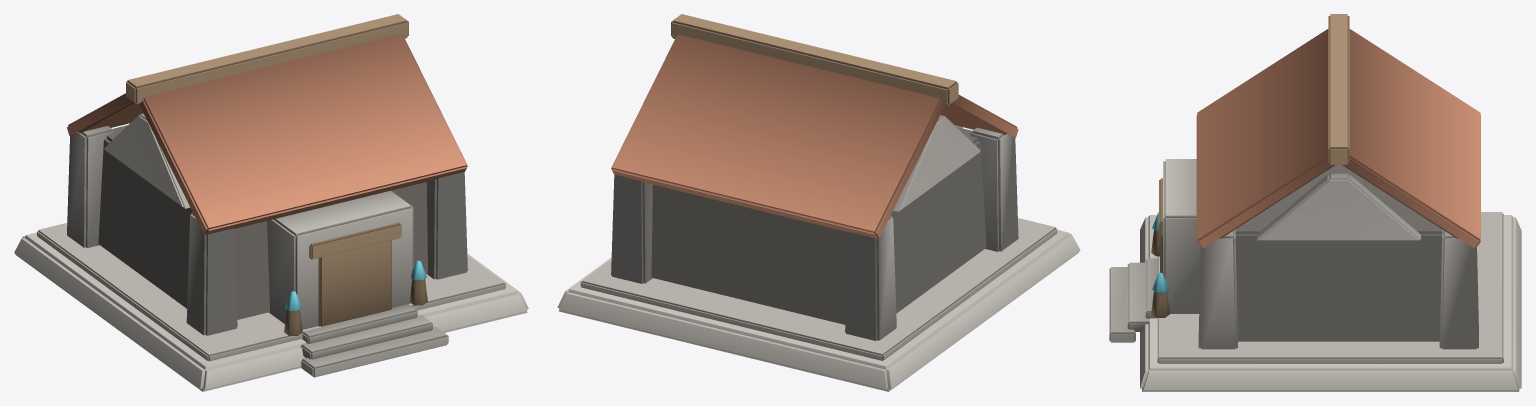
The model's file is core_archive_townhall_lv0_lod0.glb.
3 renders of one model, left to right at view 1: azimuth 30°, elevation 25°; view 2: azimuth 150°, elevation 25°; view 3: azimuth 270°, elevation 25°, orthographic.
Parts seen in each view (by area): view 1: core_archive_townhall_lv0; view 2: core_archive_townhall_lv0; view 3: core_archive_townhall_lv0.
Boxes of the visible parts, left/top/right/bottom form: core_archive_townhall_lv0: left=14, top=14, right=528, bottom=391; core_archive_townhall_lv0: left=557, top=14, right=1080, bottom=391; core_archive_townhall_lv0: left=1109, top=14, right=1521, bottom=391.
Bounding box in the file's own units: 4.62 × 3.1 × 4.99.
